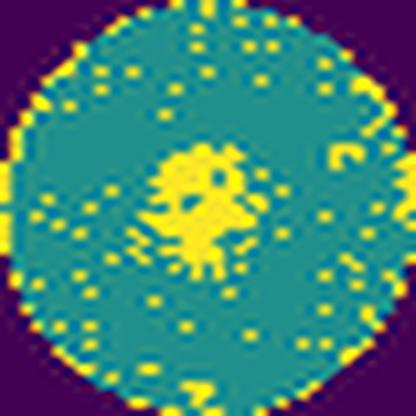Center: (133, 140, 261, 287)
